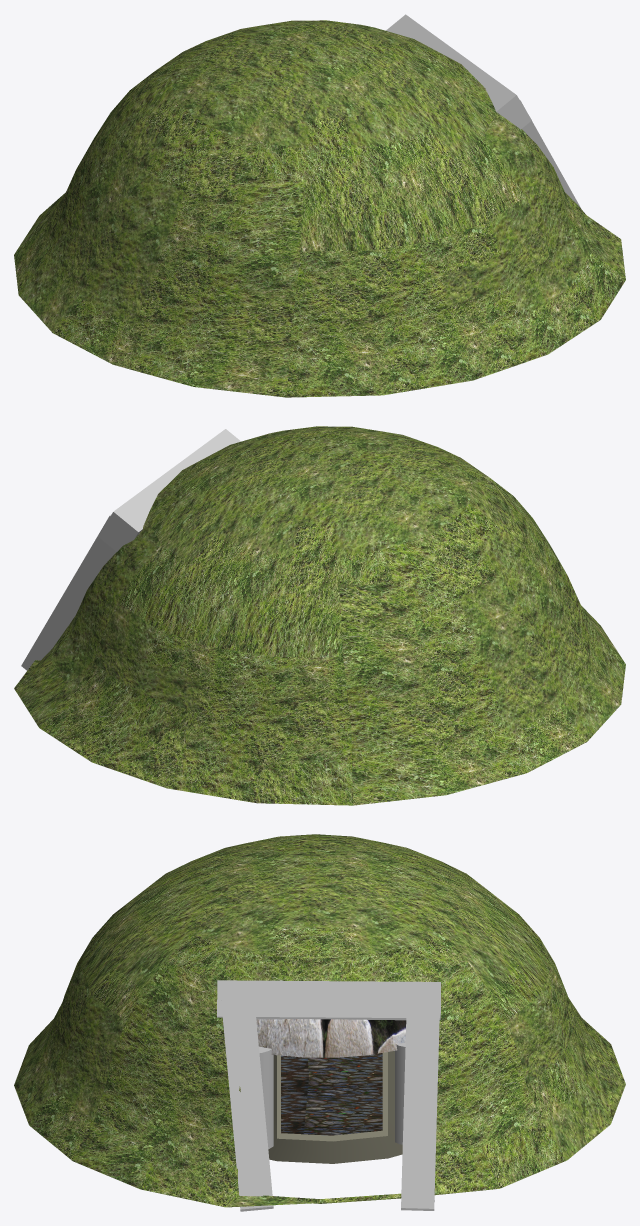
Rendered from Tomb2.fbx.
3 renders of one model, top to bottom at view 1: azimuth 30°, elevation 25°; view 2: azimuth 150°, elevation 25°; view 3: azimuth 270°, elevation 25°, orthographic.
Visible parts, largest first — view 1: pSphere2, pCube4, pCube2; view 2: pSphere2, pCube4, pCube3; view 3: pSphere2, pCylinder1, pCube3, pCube2, pCube4, Tube001, Sphere001, Cylinder005, Cylinder002.
Part boxes in pixels (x1,y1,x2,y2): pSphere2: (14, 20, 625, 397); pCube4: (386, 14, 531, 129); pCube2: (520, 100, 581, 208); pSphere2: (14, 426, 625, 805); pCube4: (98, 429, 240, 551); pCube3: (21, 514, 116, 670); pSphere2: (14, 834, 625, 1207); pCylinder1: (281, 1053, 382, 1135); pCube3: (401, 988, 440, 1210); pCube2: (220, 987, 273, 1211); pCube4: (217, 980, 440, 1020); Tube001: (268, 1051, 402, 1163); Sphere001: (256, 1019, 406, 1057); Cylinder005: (259, 1046, 273, 1149); Cylinder002: (395, 1042, 405, 1144).
Size of what is drawn, in the model's own units: 164 by 72.97 by 166.
